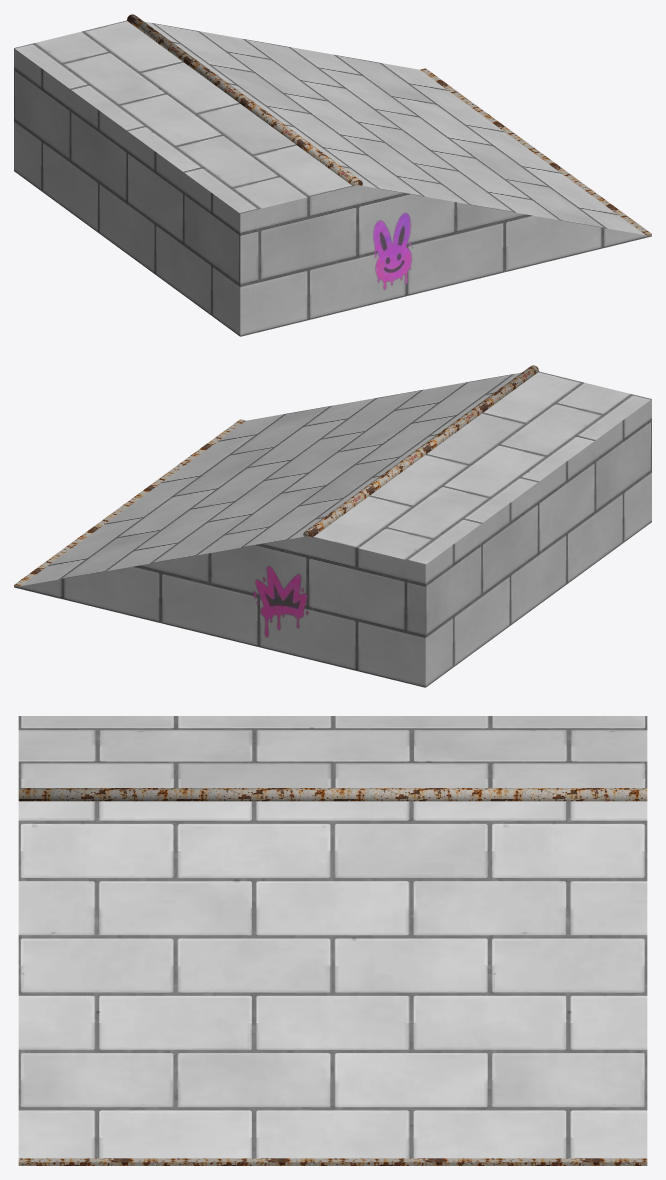
The model's file is RG_Bank.glb.
3 renders of one model, top to bottom at view 1: azimuth 30°, elevation 25°; view 2: azimuth 150°, elevation 25°; view 3: azimuth 270°, elevation 25°, orthographic. The views are drawn at different scales.
Visible parts, largest first — view 1: RG_Bank_Body, RG_Bank_Edge, RG_Bank_GfxL; view 2: RG_Bank_Body, RG_Bank_Edge, RG_Bank_GfxL; view 3: RG_Bank_Body, RG_Bank_Edge.
Boxes of the visible parts, x1,y1,x2,y2 form: RG_Bank_Body: [14, 20, 651, 336]; RG_Bank_Edge: [126, 14, 651, 236]; RG_Bank_GfxL: [373, 213, 412, 289]; RG_Bank_Body: [14, 371, 651, 687]; RG_Bank_Edge: [14, 365, 539, 587]; RG_Bank_GfxL: [253, 565, 308, 637]; RG_Bank_Body: [18, 716, 647, 1158]; RG_Bank_Edge: [18, 788, 647, 1165].
Size of the model in its own units: 4.2 by 1.25 by 4.06.
Materials: 3 (3 with a texture image).
